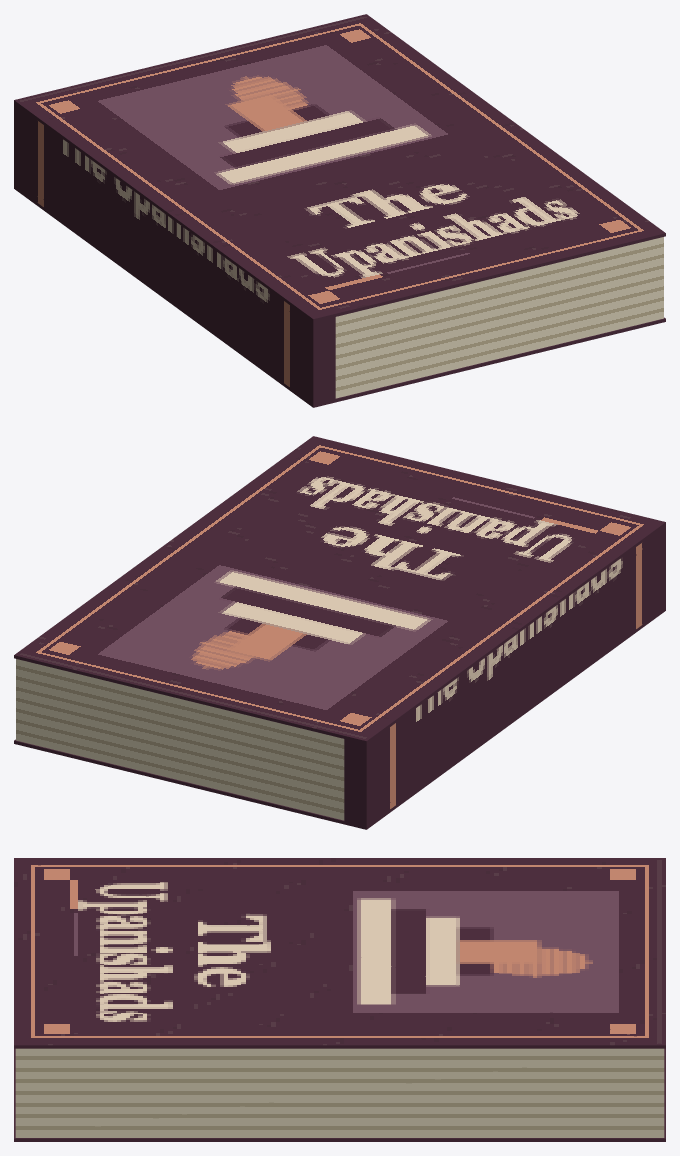
File: holybook_upanishads.glb
3 views of the same model, one above another, from view 1: azimuth 30°, elevation 25°; view 2: azimuth 150°, elevation 25°; view 3: azimuth 270°, elevation 25° (orthographic). The views are drawn at different scales.
Parts seen in each view (by area): view 1: block_front cover, block_page block, block_spine, block_back cover; view 2: block_front cover, block_page block, block_spine, block_back cover; view 3: block_front cover, block_page block, block_back cover.
Boxes of the visible parts, box(x1,y1,x2,y2) form: block_front cover: box(14, 14, 665, 322); block_page block: box(335, 237, 663, 398); block_spine: box(14, 103, 335, 404); block_back cover: box(14, 186, 665, 407); block_front cover: box(14, 436, 665, 744); block_page block: box(16, 659, 344, 820); block_spine: box(344, 525, 665, 826); block_back cover: box(14, 608, 665, 829); block_front cover: box(14, 858, 665, 1048); block_page block: box(15, 1048, 664, 1137); block_back cover: box(14, 1048, 665, 1141).
Size of the model in its own units: 0.1414 by 0.034 by 0.208.
1 material, 1 textured.
